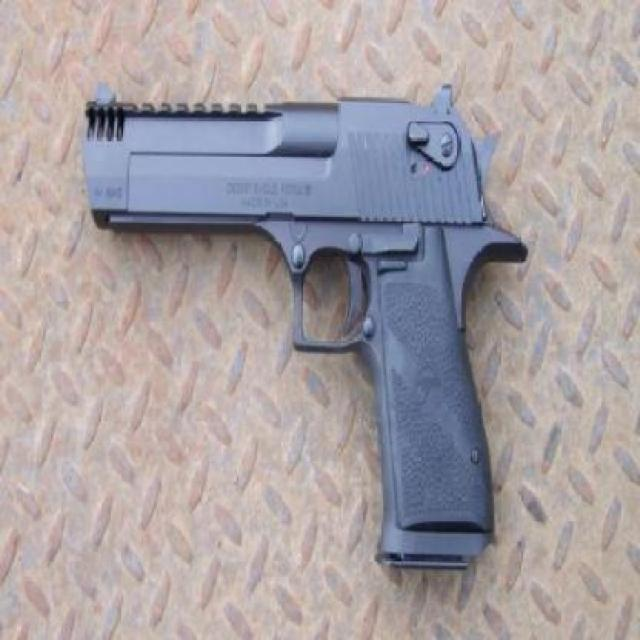gun: (69, 76, 533, 599)
